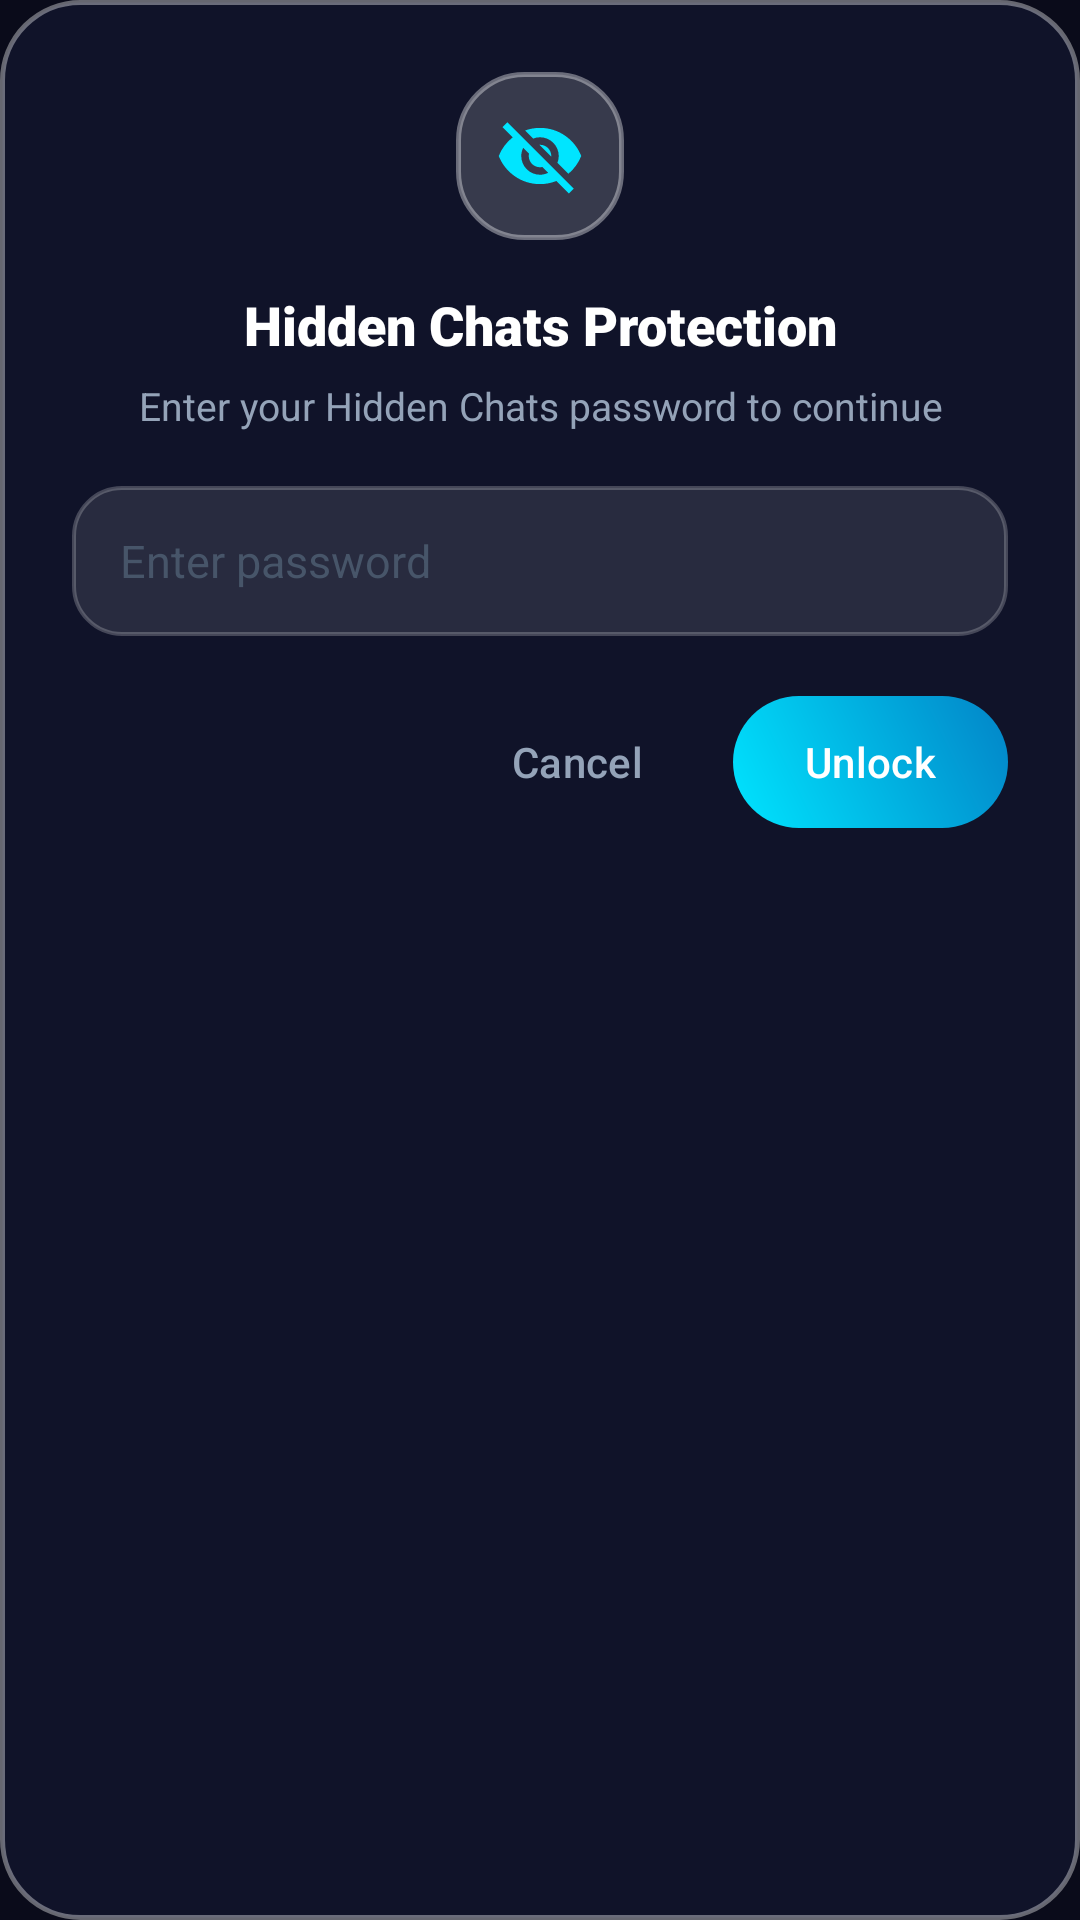

Screen size 1080w x 1920h. Icon name, then its box in pixels as (x1,y1,x2,y2):
visibility off: (499,122,581,194)
